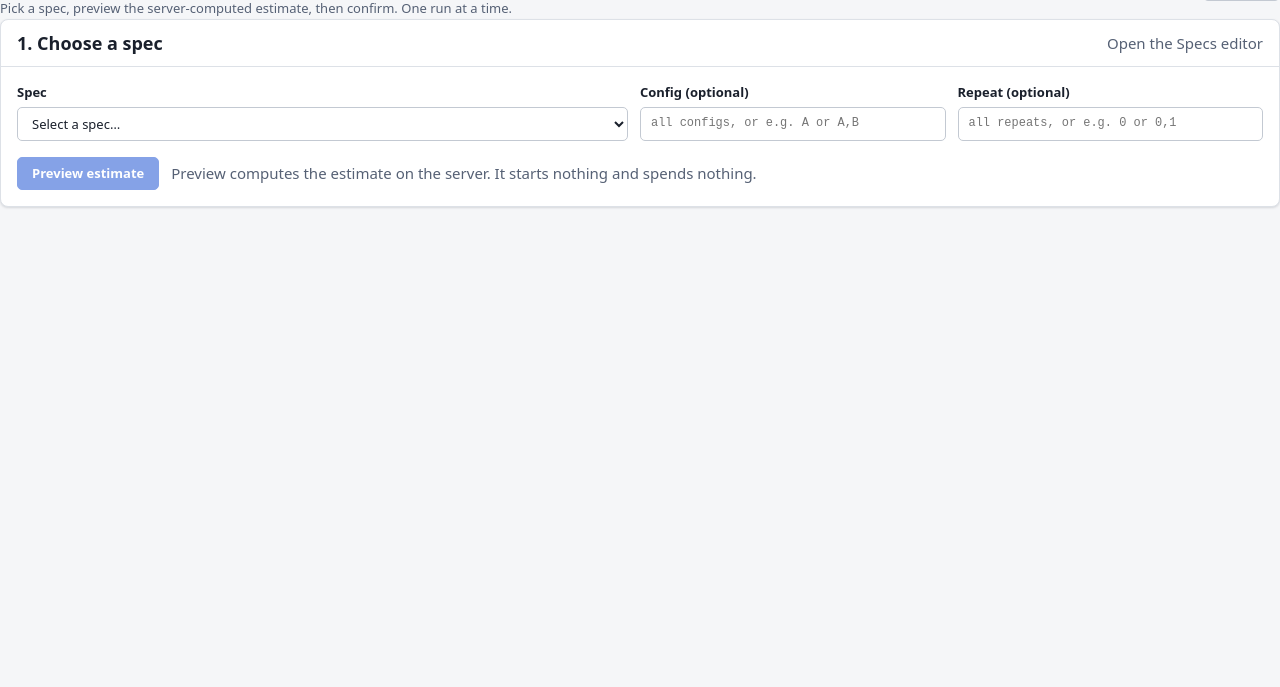
Test: Launch preview › shows a scripted estimate as no-spend, with the server's figures
Select "pilot-scripted [scripted]" in the dropdown labelled "Spec" at (322,124), box x1=17 y1=106 x2=628 y2=140
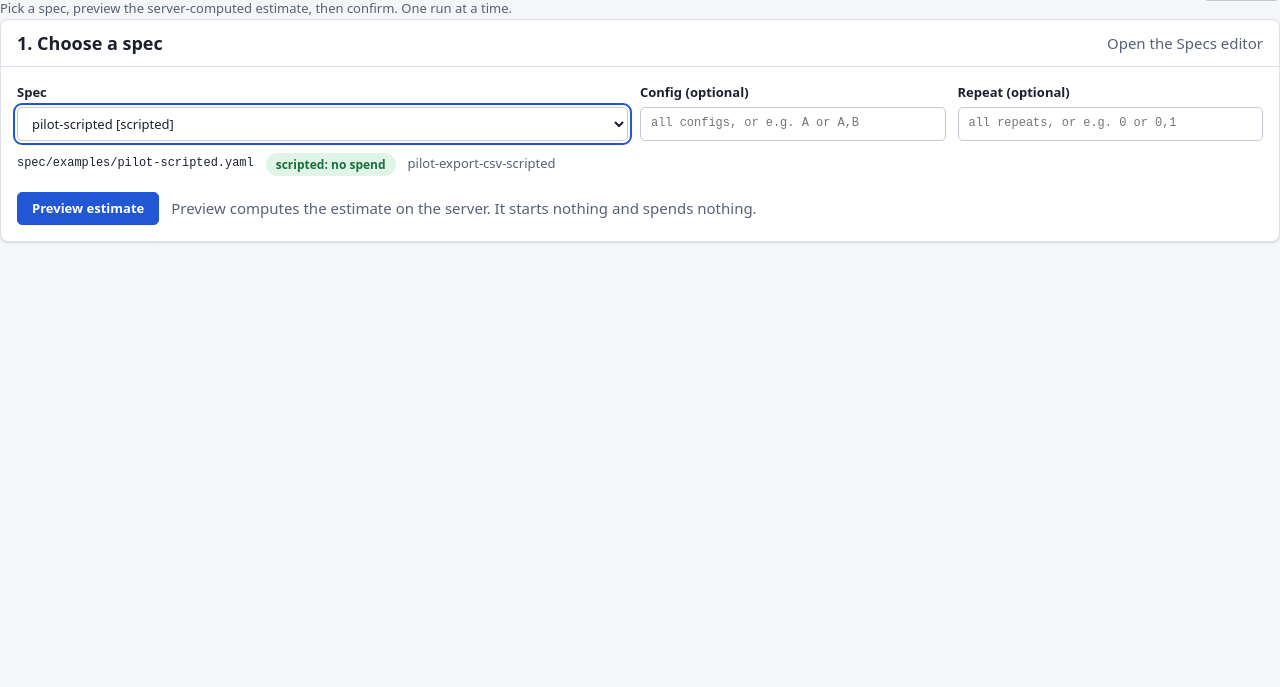
Click the button "Preview estimate".
click(88, 208)  # box x1=17 y1=192 x2=159 y2=225
(page scrolled)
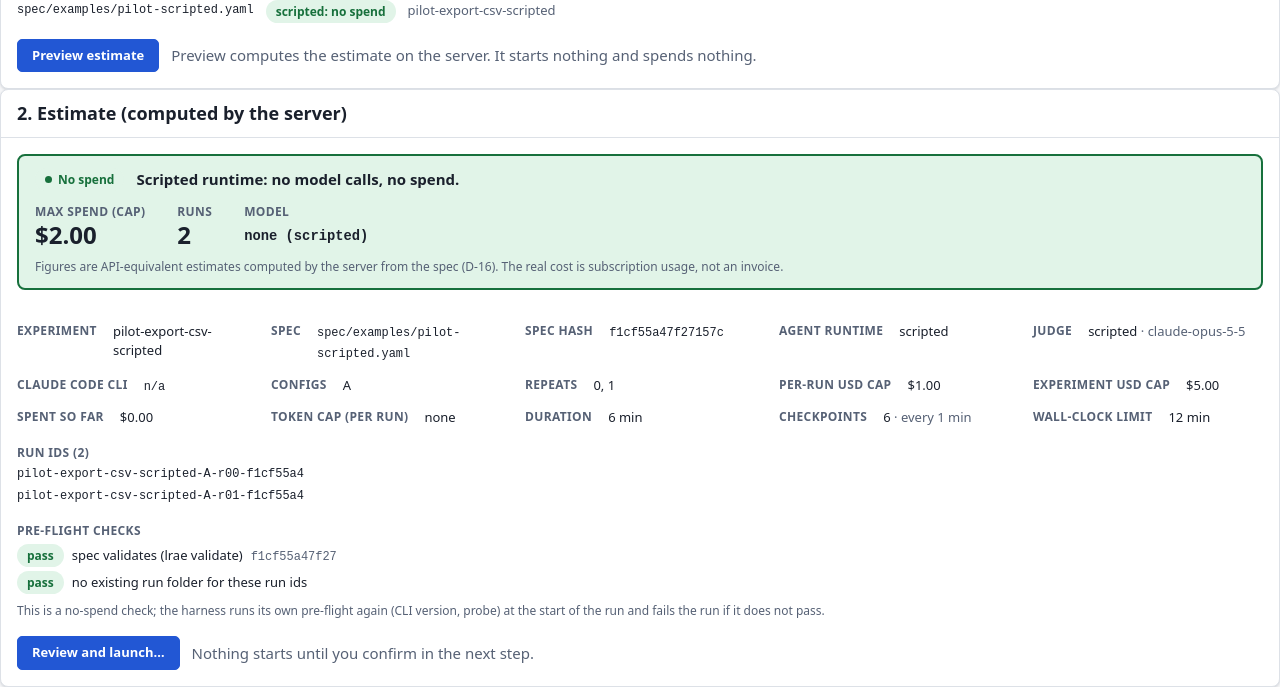
Check: the heading "2. Estimate (computed by the server)" is shown, box x1=17 y1=102 x2=347 y2=125
Check: the text "No spend" is shown, box x1=35 y1=168 x2=124 y2=191
Check: the text "Scripted runtime: no model calls, no spend." is shown, box x1=136 y1=168 x2=459 y2=190
